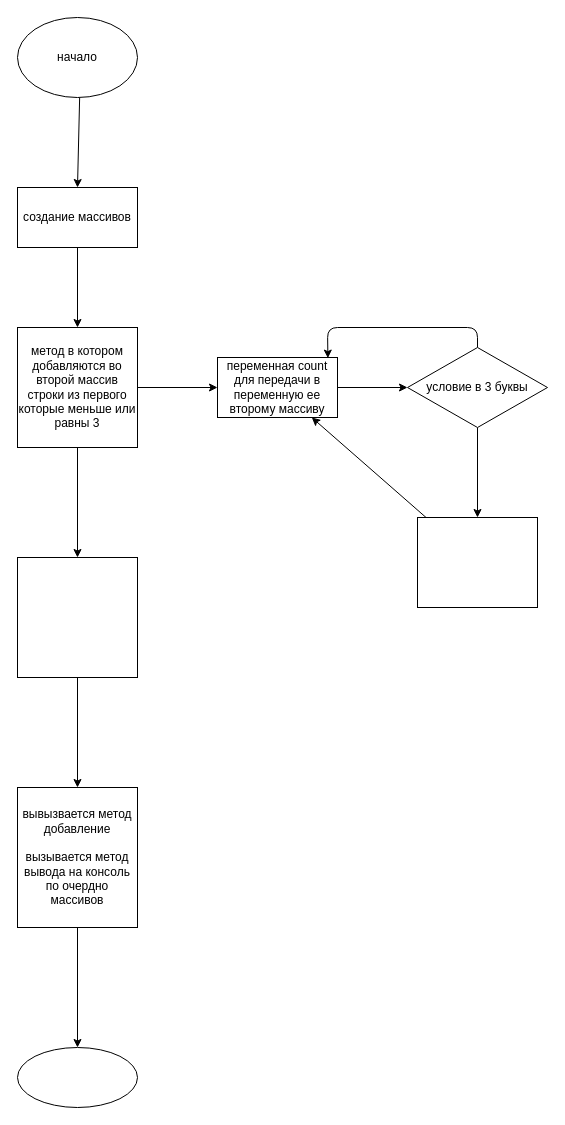
Some shapes in this 565 by 1125 pixel diagram are drawn without their labels. Each missing label, with the centre of its shape:
если меньше и ровно 3 буквам в строке то записываем во второй массив: (x=477, y=562)
конец: (x=77, y=1077)
метод в котором выводиться в консоль заданный массив: (x=77, y=617)
